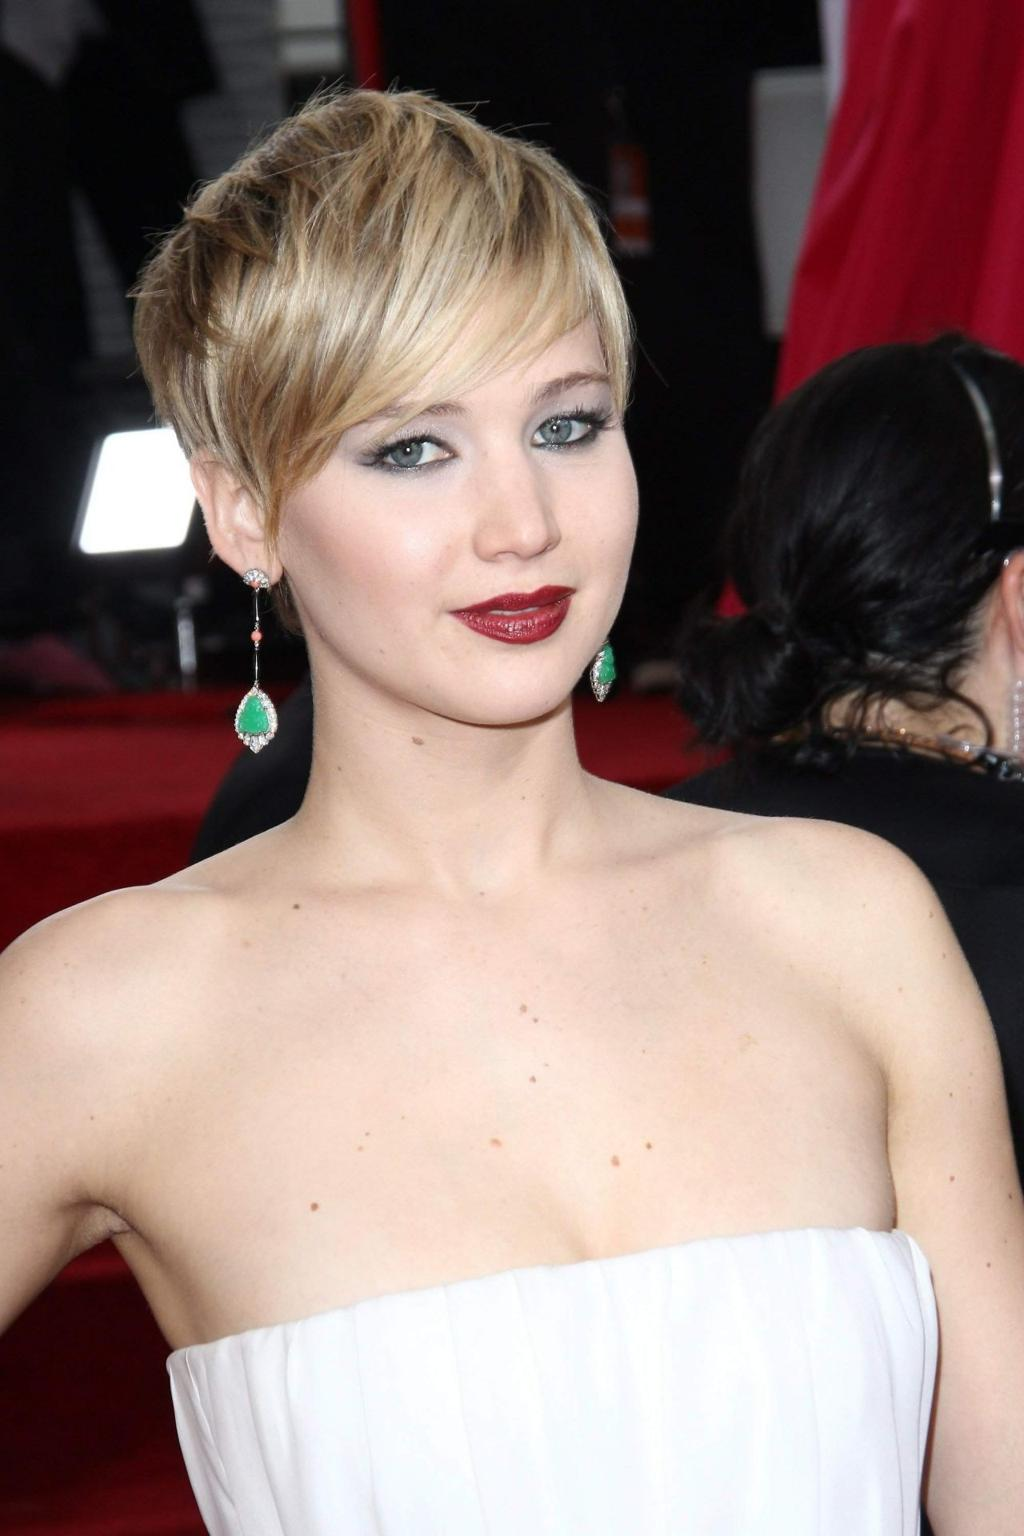face: (270, 219, 636, 720)
